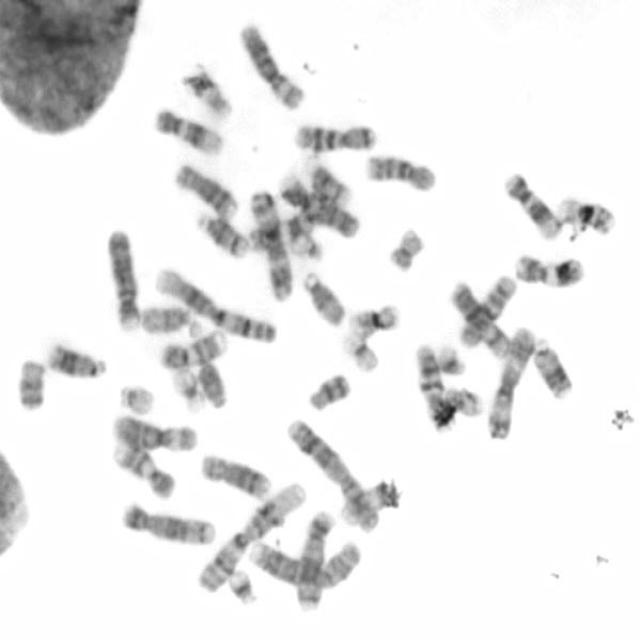A1: (191, 475, 310, 597), (149, 262, 282, 346)
A2: (282, 415, 382, 532), (245, 533, 363, 592)
A3: (483, 322, 537, 441), (246, 183, 295, 303)
B4: (274, 168, 362, 242), (100, 223, 144, 333)
B5: (116, 498, 216, 547), (292, 506, 336, 612)
C10: (455, 271, 519, 350), (361, 150, 437, 195)
C11: (247, 205, 315, 256), (510, 248, 586, 290)
C12: (499, 166, 565, 242), (148, 101, 226, 158)
C6: (234, 16, 309, 112), (108, 409, 201, 454)
C7: (409, 338, 455, 431), (289, 119, 378, 153)
C8: (170, 159, 241, 220), (196, 448, 274, 500)
C9: (108, 438, 177, 502), (154, 324, 229, 371)
D13: (528, 331, 575, 402), (41, 334, 110, 382)
D14: (191, 204, 251, 260), (298, 154, 355, 208)
D15: (299, 267, 347, 330), (136, 298, 200, 336)
E16: (554, 190, 618, 237), (342, 297, 402, 343)
E17: (336, 477, 402, 528), (180, 62, 236, 121)
E18: (12, 351, 48, 414), (304, 367, 352, 413)
F19: (168, 363, 206, 415), (338, 330, 380, 374)
F20: (384, 223, 426, 274), (442, 385, 484, 417)
G21: (223, 563, 260, 608), (434, 339, 468, 378)
G22: (113, 379, 157, 417), (285, 228, 326, 264)
X: (445, 273, 514, 360)
Y: (193, 356, 231, 410)
